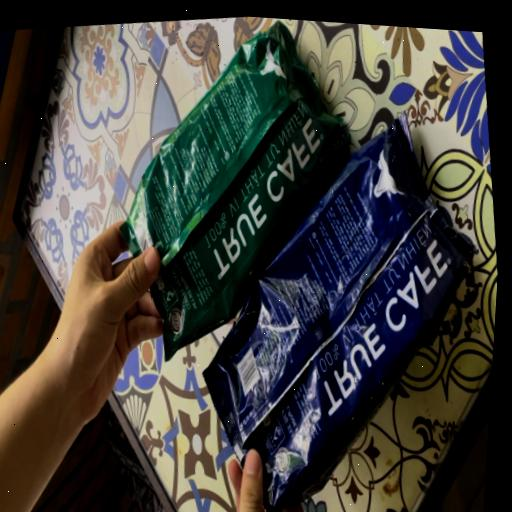cafe_hat: (204, 113, 473, 512)
cafe_xay: (121, 21, 349, 357)
